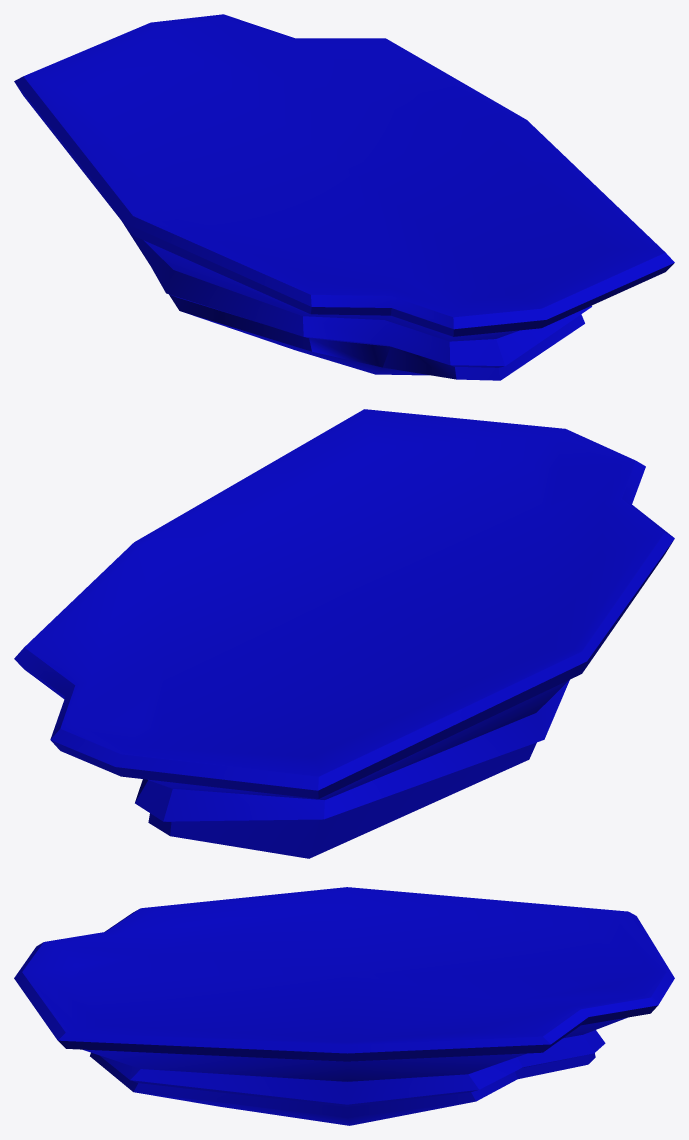
Rendered from LargeDungeonPlatform1.fbx.
3 views of the same model, one above another, from view 1: azimuth 30°, elevation 25°; view 2: azimuth 150°, elevation 25°; view 3: azimuth 270°, elevation 25° (orthographic). The views are drawn at different scales.
Visible parts, largest first — view 1: BrickPlatform001; view 2: BrickPlatform001; view 3: BrickPlatform001.
Boxes of the visible parts, left/top/right/bottom form: BrickPlatform001: left=14, top=14, right=674, bottom=380; BrickPlatform001: left=14, top=409, right=674, bottom=858; BrickPlatform001: left=14, top=887, right=674, bottom=1125.
Bounding box in the file's own units: 728 × 1256 × 262.
